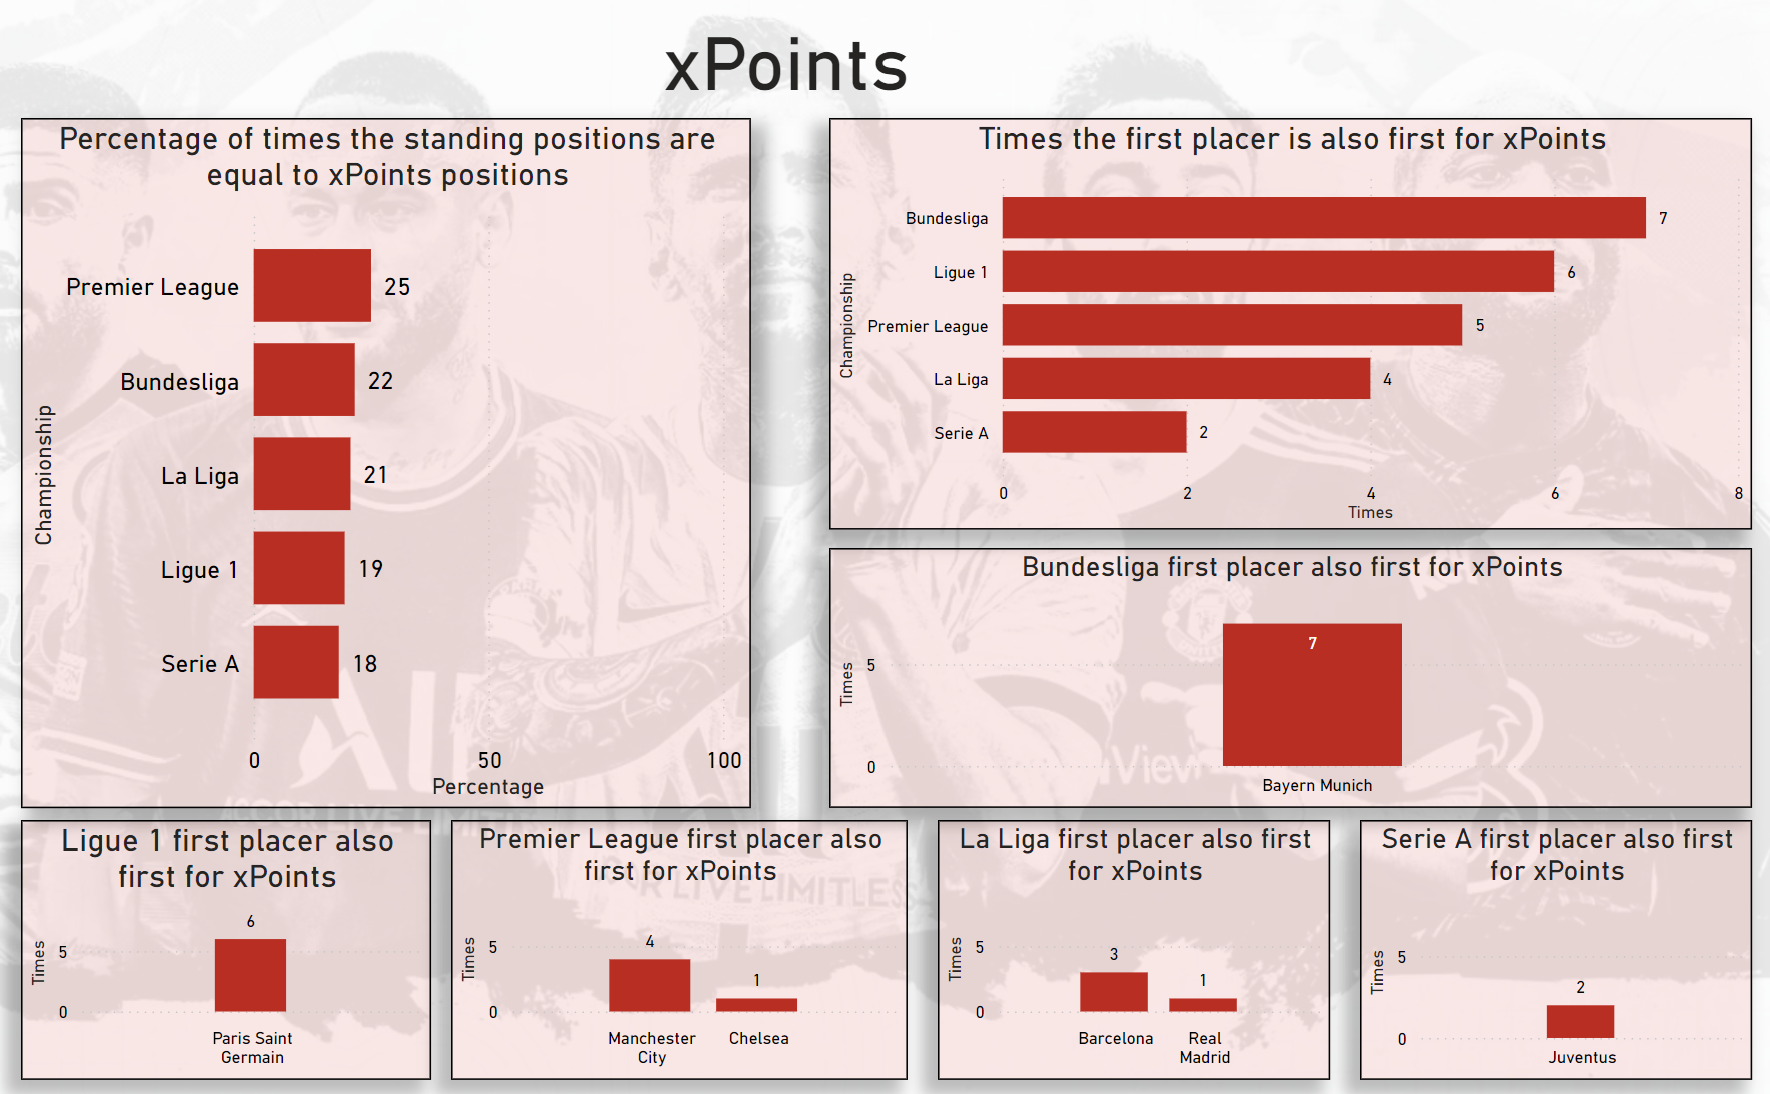

The dashboard page shown, as its layout file describes it:
{"tool":"powerbi","page":{"name":"xPoints","canvas":[1280,720],"ordinal":6},"visuals":[{"type":"clusteredBarChart","title":"Times the first placer is also first for xPoints","fields":{"Category":["Sheet1.Championship"],"Y":["Sum(Sheet1.Stand_eq_xPoints)"]},"box":[667,83.5,592.4,264.7],"z":0},{"type":"textbox","box":[555.2,15.4,199.2,68.1],"z":1000},{"type":"clusteredBarChart","title":"Percentage of times the standing positions are equal to xPoints positions","fields":{"Category":["Sheet1.Championship"],"Y":["Sheet1.sumStand_xPoints"]},"box":[147.8,83.5,469.1,443.4],"z":2000},{"type":"clusteredColumnChart","title":"Premier League first placer also first for xPoints","fields":{"Y":["Sum(Sheet1.Stand_eq_xPoints)"],"Category":["Sheet1.Teams"]},"box":[424.1,534.6,293,167.1],"z":3000},{"type":"clusteredColumnChart","title":"Bundesliga first placer also first for xPoints","fields":{"Category":["Sheet1.Teams"],"Y":["Sum(Sheet1.Stand_eq_xPoints)"]},"box":[667,359.8,592.4,167.1],"z":4000},{"type":"clusteredColumnChart","title":"La Liga first placer also first for xPoints","fields":{"Category":["Sheet1.Teams"],"Y":["Sum(Sheet1.Stand_eq_xPoints)"]},"box":[736.4,534.6,251.9,167.1],"z":5000},{"type":"clusteredColumnChart","title":"Ligue 1 first placer also first for xPoints","fields":{"Category":["Sheet1.Teams"],"Y":["Sum(Sheet1.Stand_eq_xPoints)"]},"box":[147.8,534.6,263.5,167.1],"z":6000},{"type":"actionButton","box":[21.8,156.8,91.2,47.6],"z":7000},{"type":"actionButton","box":[21.8,210.8,91.2,47.6],"z":8000},{"type":"actionButton","box":[21.8,263.5,91.2,47.6],"z":9000},{"type":"actionButton","box":[21.8,316.1,91.2,47.6],"z":10000},{"type":"actionButton","box":[21.8,368.8,91.2,47.6],"z":11000},{"type":"textbox","box":[1.3,106.7,134.9,56.5],"z":12000},{"type":"shape","box":[0,99,127.2,14.1],"z":13000},{"type":"shape","box":[113.1,100.2,16.7,331.6],"z":14000},{"type":"shape","box":[0,416.4,127.2,15.4],"z":15000},{"type":"actionButton","box":[21.8,613,91.2,47.6],"z":16000},{"type":"textbox","box":[0,443.4,134.9,56.5],"z":17000},{"type":"shape","box":[0,435.7,127.2,15.4],"z":18000},{"type":"shape","box":[113.1,436.9,18,241.6],"z":19000},{"type":"shape","box":[0,654.1,127.2,34.7],"z":20000},{"type":"actionButton","box":[0,0,168.4,45],"z":21000},{"type":"actionButton","box":[21.8,551.3,91.2,47.6],"z":22000},{"type":"clusteredColumnChart","title":"Serie A first placer also first for xPoints","fields":{"Category":["Sheet1.Teams"],"Y":["Sum(Sheet1.Stand_eq_xPoints)"]},"box":[1007.6,534.6,251.9,167.1],"z":23000},{"type":"actionButton","box":[21.8,490.9,91.2,47.6],"z":24000}]}

Visuals, with their boxes on the page's 1280x720 design canvas (x1, y1, x2, y2). These are canvas units, not pixel positions in the 1770x1094 screenshot, which may show the page scaled, cropped or inside an application window:
"Times the first placer is also first for xPoints" clusteredBarChart: bbox(667, 84, 1259, 348)
textbox: bbox(555, 15, 754, 84)
"Percentage of times the standing positions are equal to xPoints positions" clusteredBarChart: bbox(148, 84, 617, 527)
"Premier League first placer also first for xPoints" clusteredColumnChart: bbox(424, 535, 717, 702)
"Bundesliga first placer also first for xPoints" clusteredColumnChart: bbox(667, 360, 1259, 527)
"La Liga first placer also first for xPoints" clusteredColumnChart: bbox(736, 535, 988, 702)
"Ligue 1 first placer also first for xPoints" clusteredColumnChart: bbox(148, 535, 411, 702)
actionButton: bbox(22, 157, 113, 204)
actionButton: bbox(22, 211, 113, 258)
actionButton: bbox(22, 264, 113, 311)
actionButton: bbox(22, 316, 113, 364)
actionButton: bbox(22, 369, 113, 416)
textbox: bbox(1, 107, 136, 163)
shape: bbox(0, 99, 127, 113)
shape: bbox(113, 100, 130, 432)
shape: bbox(0, 416, 127, 432)
actionButton: bbox(22, 613, 113, 661)
textbox: bbox(0, 443, 135, 500)
shape: bbox(0, 436, 127, 451)
shape: bbox(113, 437, 131, 678)
shape: bbox(0, 654, 127, 689)
actionButton: bbox(0, 0, 168, 45)
actionButton: bbox(22, 551, 113, 599)
"Serie A first placer also first for xPoints" clusteredColumnChart: bbox(1008, 535, 1260, 702)
actionButton: bbox(22, 491, 113, 538)
